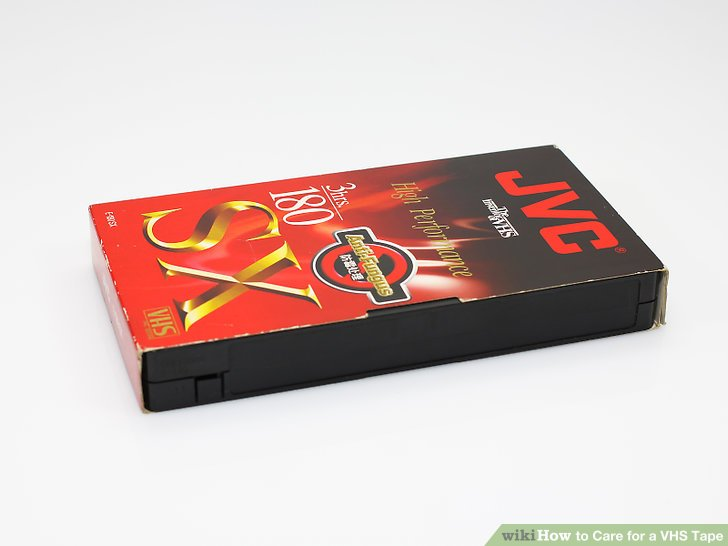Nonrec_Other: (53, 94, 676, 435)
